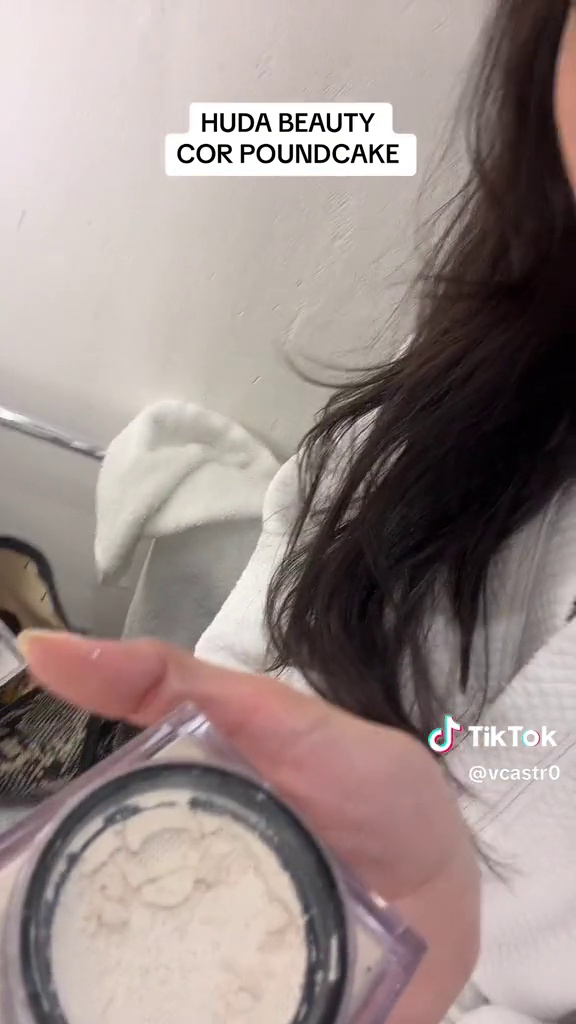train' :'yolo_data/train/images',: (1, 677, 450, 1023)
